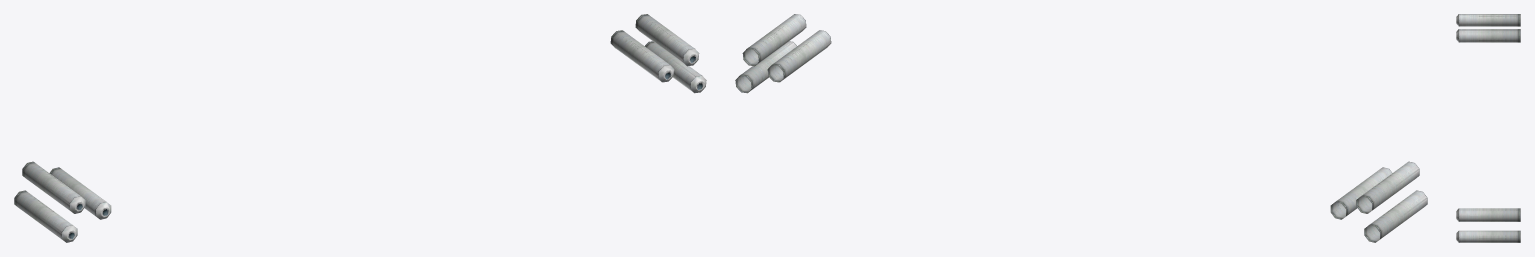
The model's file is hutt_fighter_light_weapon_s04_l0.fbx.
The picture shows the model from 3 angles, left to right: view 1: azimuth 30°, elevation 25°; view 2: azimuth 150°, elevation 25°; view 3: azimuth 270°, elevation 25°; orthographic projection. The views are drawn at different scales.
Visible parts, largest first — view 1: mesh_node; view 2: mesh_node; view 3: mesh_node.
Boxes of the visible parts, x1,y1,x2,y2 form: mesh_node: (14,14,706,242); mesh_node: (735,14,1427,242); mesh_node: (1456,14,1520,242).
Size of the model in its own units: 3.52 by 0.2475 by 0.4683.
